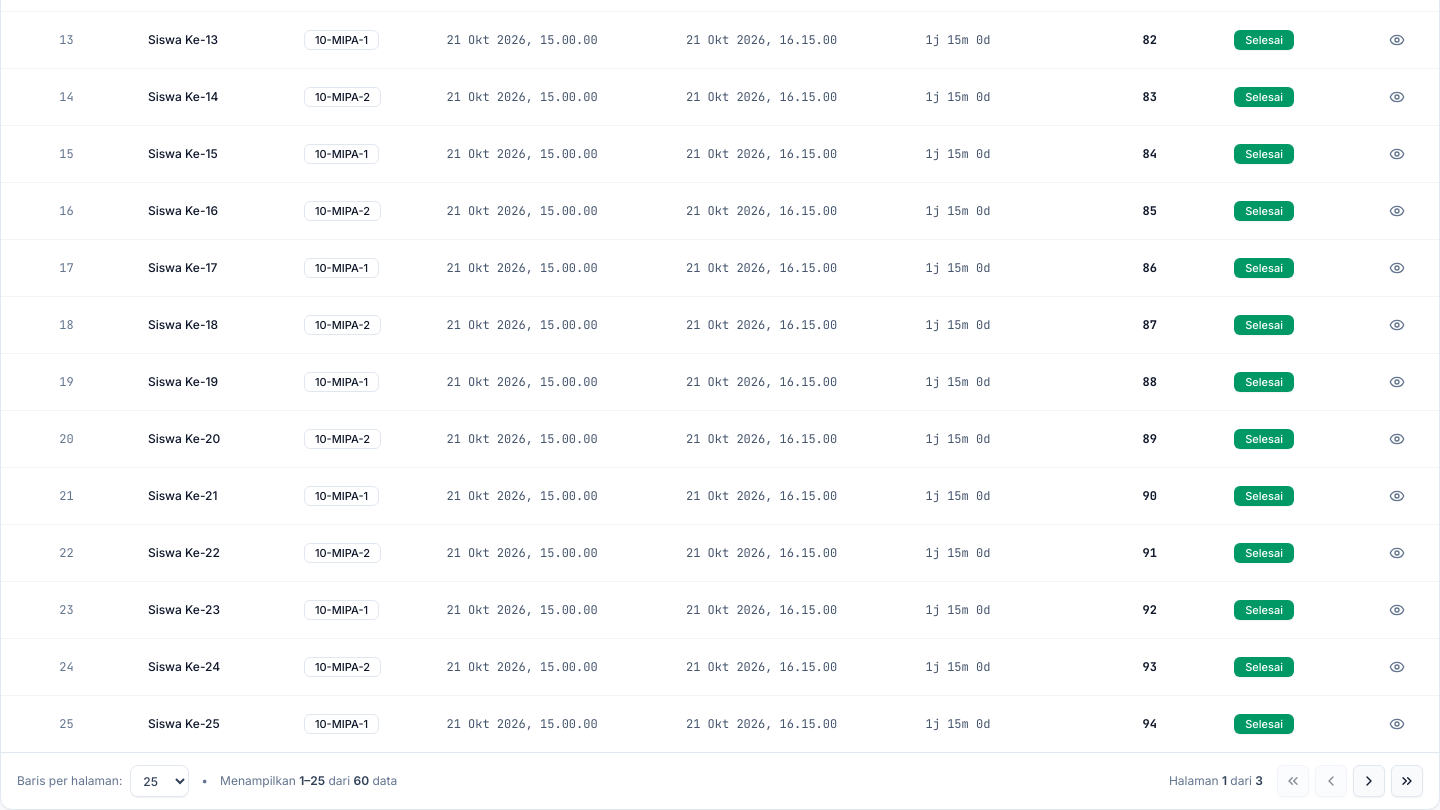
it: Fitur Paginasi Tabel Admin (DataTablePagination) › Paginasi pada ExamReportView (/admin/ujian/[id]/laporan) › berpindah ke halaman 2 dan melanjutkan penomoran urut (26 s/d 50)
(page scrolled)
Click the button named "Ke halaman berikutnya": (1369, 781) [1353, 765, 1385, 797]
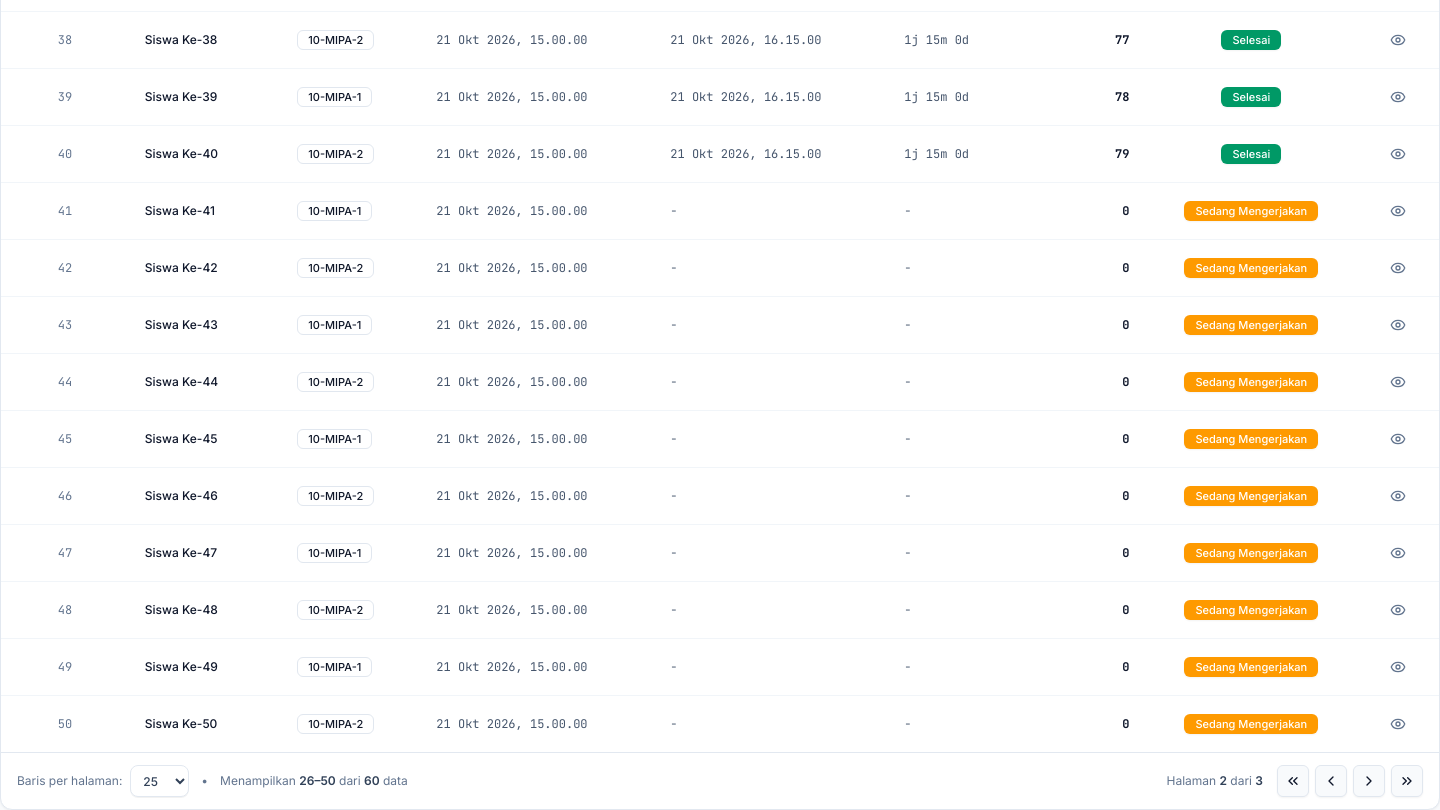
Expected: the text "Siswa Ke-50" is shown, [129, 696, 281, 752]
Expected: the element with test id "pagination-range-info" reads "Menampilkan 26–50 dari 60 data", [220, 773, 408, 789]
Expected: the element with test id "pagination-page-info" reads "Halaman 2 dari 3", [1166, 773, 1263, 789]
